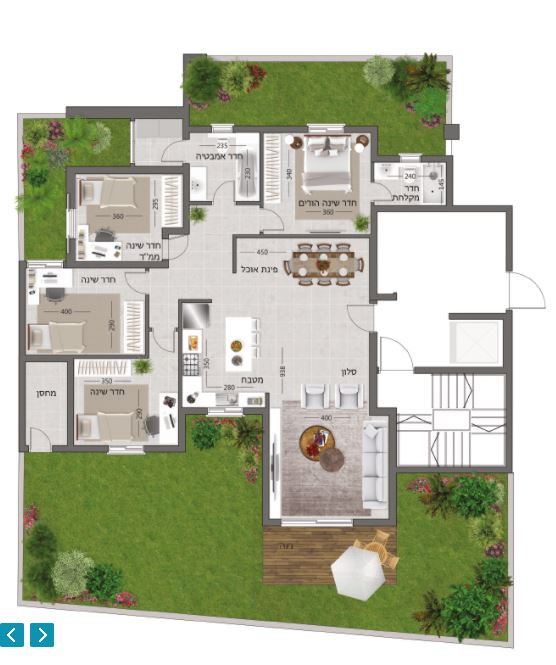door: (514, 266, 548, 317), (378, 334, 417, 365), (344, 303, 369, 331), (150, 333, 177, 358), (27, 421, 54, 446), (119, 270, 146, 295), (262, 207, 289, 232), (211, 176, 238, 201), (157, 139, 184, 164), (375, 180, 398, 203)
room: (258, 126, 376, 238), (18, 260, 147, 362), (67, 354, 181, 452), (66, 167, 167, 268)
wall: (19, 261, 27, 453), (65, 106, 189, 118), (371, 205, 513, 213), (66, 167, 190, 174), (389, 408, 396, 526), (263, 408, 270, 525), (65, 261, 169, 268), (504, 375, 512, 466), (67, 355, 74, 454), (389, 467, 513, 472), (503, 312, 512, 374)
